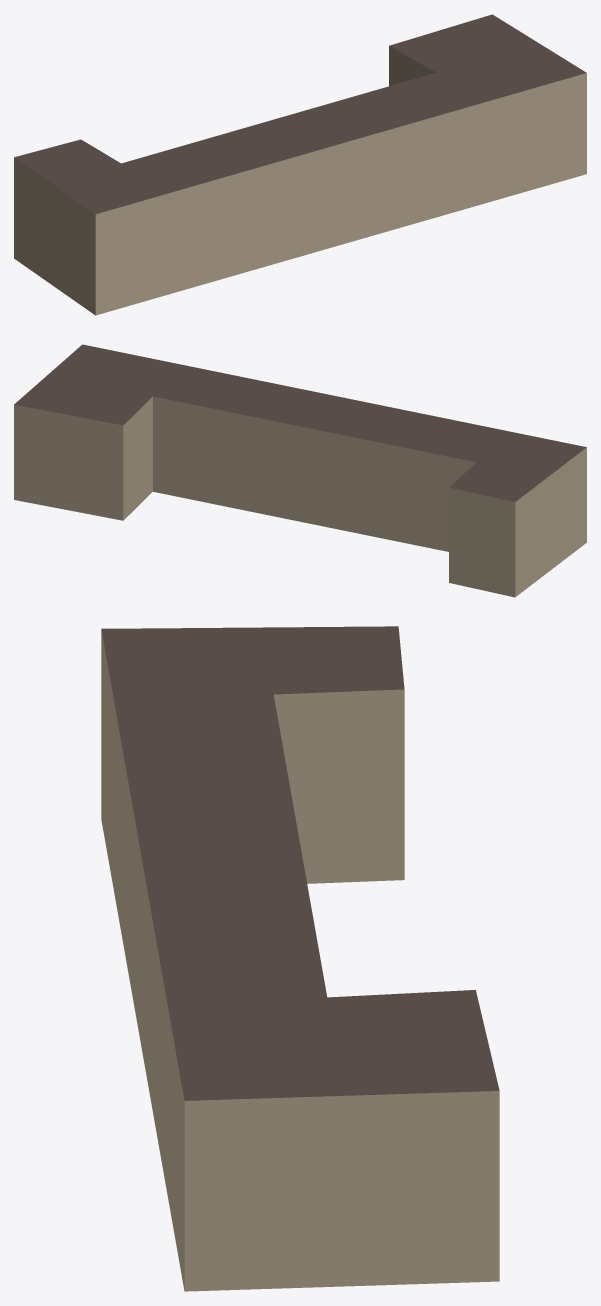
The picture shows the model from 3 angles, top to bottom: view 1: azimuth 30°, elevation 25°; view 2: azimuth 150°, elevation 25°; view 3: azimuth 270°, elevation 25°; orthographic projection. The views are drawn at different scales.
Parts seen in each view (by area): view 1: HP-w1070642155; view 2: HP-w1070642155; view 3: HP-w1070642155.
Boxes of the visible parts, <box> form: HP-w1070642155: <box>14,14,586,315</box>; HP-w1070642155: <box>14,344,586,597</box>; HP-w1070642155: <box>101,626,499,1291</box>.
Size of the model in its own units: 48.04 by 9 by 17.04.
